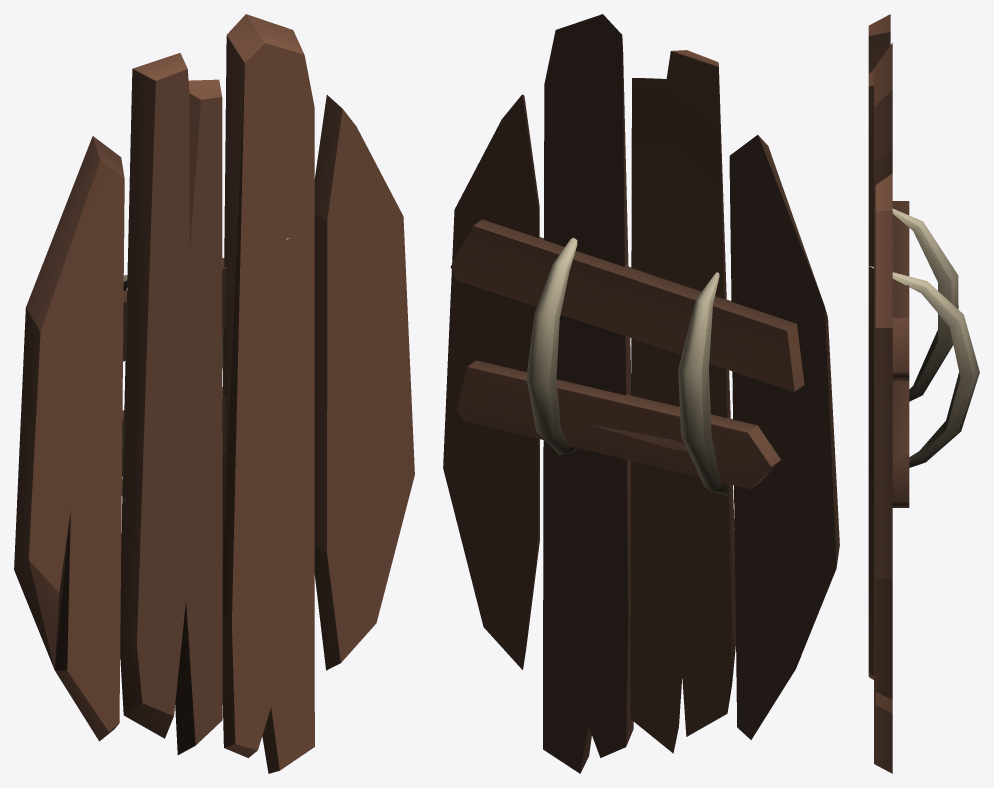
Rendered from Shield_2A.FBX.
3 renders of one model, left to right at view 1: azimuth 30°, elevation 25°; view 2: azimuth 150°, elevation 25°; view 3: azimuth 270°, elevation 25°, orthographic. The views are drawn at different scales.
Visible parts, largest first — view 1: Shield_2A; view 2: Shield_2A; view 3: Shield_2A.
Boxes of the visible parts, x1=… form: Shield_2A: x1=14, y1=14, x2=414, y2=773; Shield_2A: x1=443, y1=14, x2=839, y2=773; Shield_2A: x1=868, y1=14, x2=979, y2=773.
Size of the model in its own units: 57.73 by 108 by 15.18.
